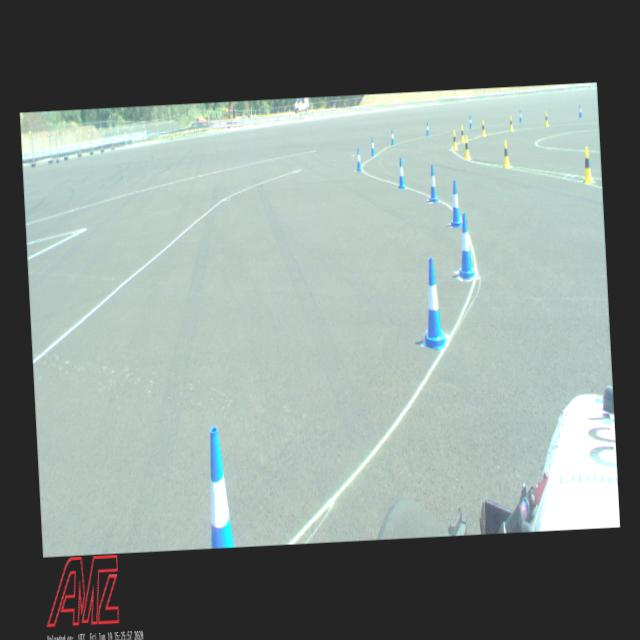blue_cone: (206, 426, 234, 548), (418, 257, 448, 350), (456, 212, 476, 278), (448, 180, 462, 228), (427, 164, 439, 202), (397, 157, 406, 189), (356, 146, 362, 172), (370, 136, 376, 156), (578, 104, 583, 118), (390, 129, 394, 145), (425, 122, 429, 136), (468, 115, 472, 129), (518, 110, 522, 122)
yellow_cone: (580, 146, 594, 184), (502, 140, 511, 168), (464, 135, 471, 160), (451, 130, 458, 150), (460, 124, 466, 142), (544, 111, 550, 128), (508, 115, 514, 131), (481, 118, 486, 136)
